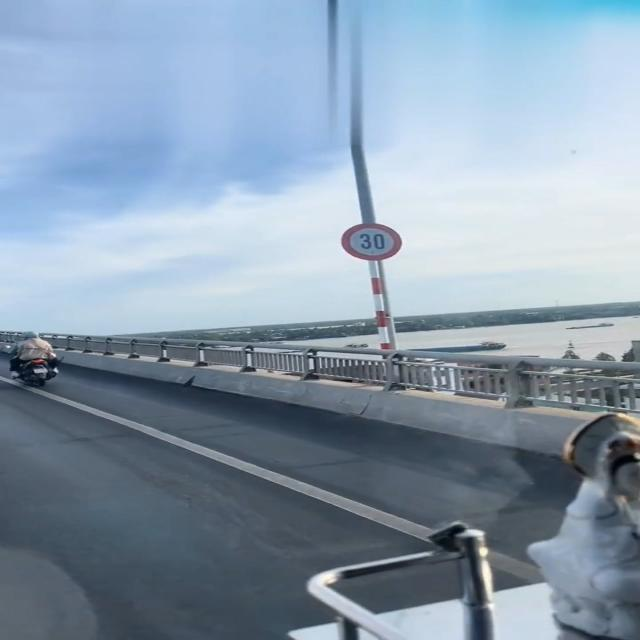127-toc-do-toi-da-30: (340, 223, 403, 261)
